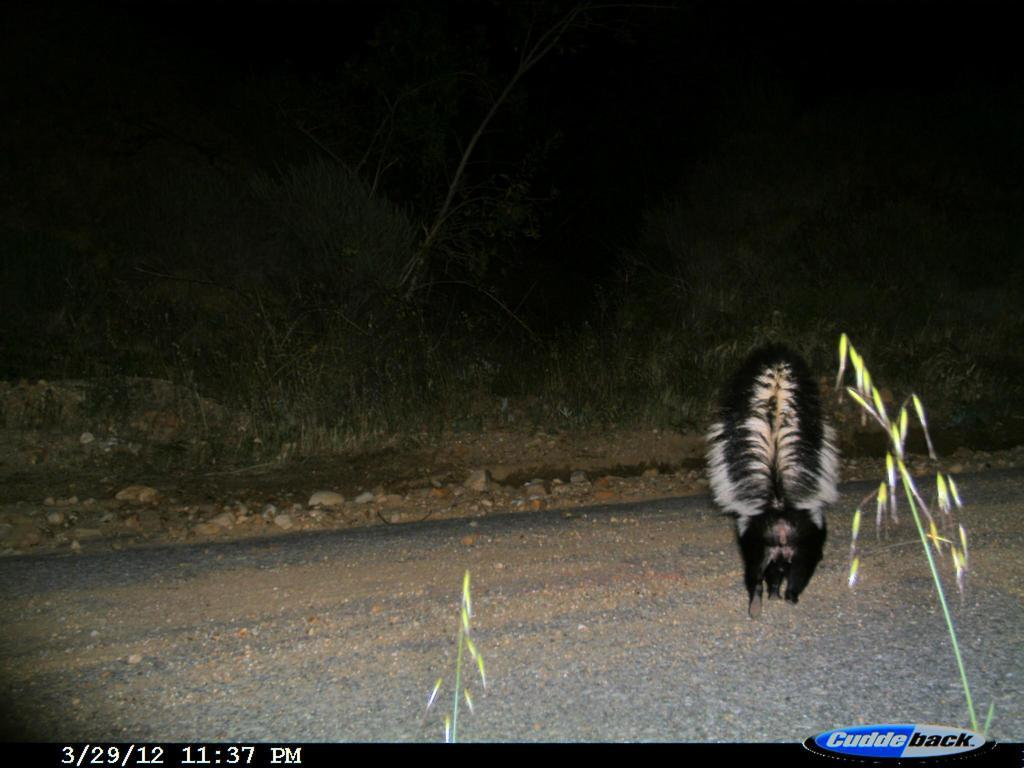skunk: (703, 336, 850, 629)
